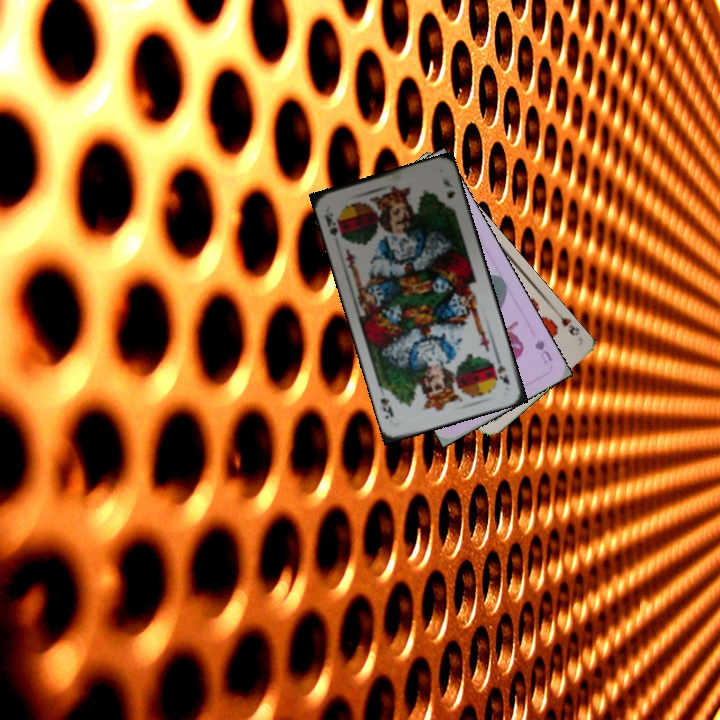GU: (530, 335, 555, 367)
H9: (552, 309, 582, 339)
SK: (491, 351, 512, 387), (320, 208, 341, 239)
